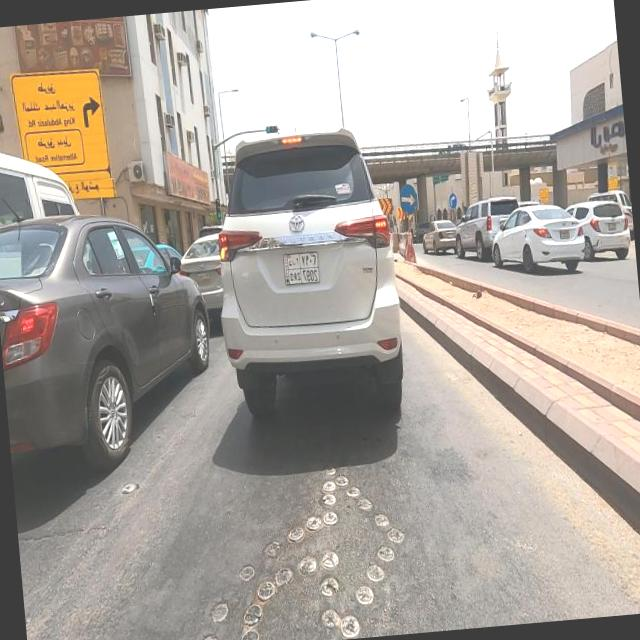debris: (135, 123, 248, 233), (381, 149, 442, 239), (461, 273, 492, 312)
